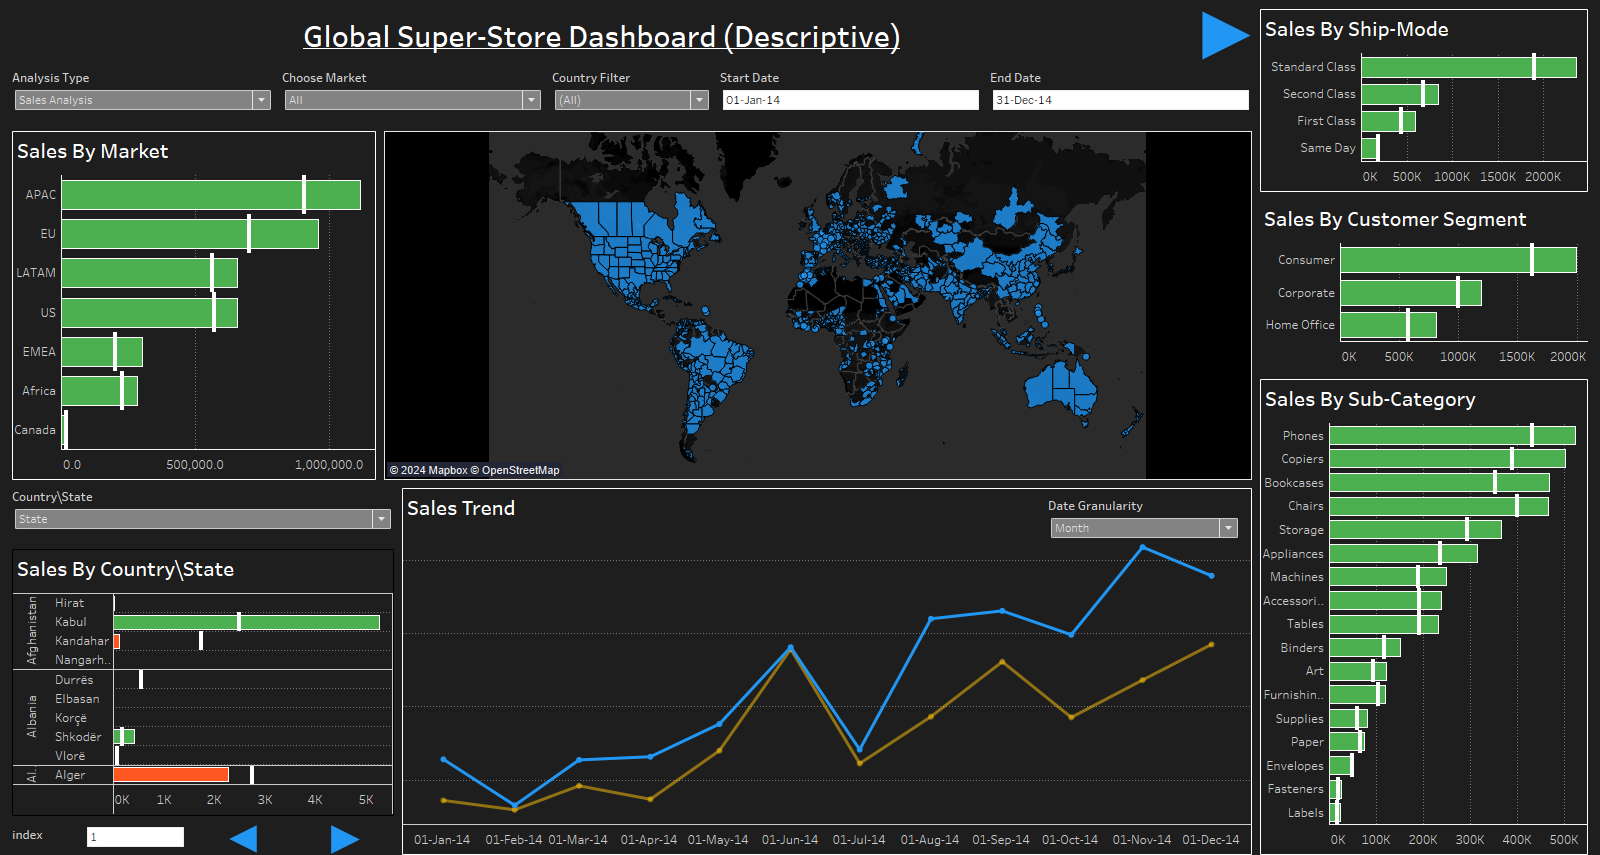

The page's visual inventory and layout, read from the dashboard file:
{"tool":"tableau","page":{"name":"Descriptive","canvas":[1000,1000],"units":"permille","ordinal":0},"visuals":[{"type":"text","box":[5.8,11.1,735.6,68.9]},{"type":"worksheet","title":"Prescriptive arrow","mark":"Shape","box":[741.4,11.1,43.2,68.9]},{"type":"worksheet","title":"Analysis By Ship-Mode","mark":"Automatic","rows":["Ship Mode"],"cols":["Calculation_714946453186723848"],"box":[784.6,11.1,209.7,219.2]},{"type":"parameter","param":"[Parameters].[Parameter 8]","box":[5.8,80,164.5,70.4]},{"type":"parameter","param":"[Parameters].[Parameter 1]","box":[170.2,80,164.5,70.4]},{"type":"filter","title":"Map","param":"[federated.01f76d61vm6dbi1f8phw8010wd9h].[none:Market Filter (copy)_861594915333","box":[334.7,80,121,70.4]},{"type":"parameter","param":"[Parameters].[Parameter 4]","box":[455.6,80,164.5,70.4]},{"type":"parameter","param":"[Parameters].[Start Date (copy)_861594915472015377]","box":[620.1,80,164.5,70.4]},{"type":"worksheet","title":"Analysis By Market","mark":"Automatic","rows":["Market"],"cols":["Calculation_714946453186723848"],"box":[5.8,150.3,232,408.9]},{"type":"worksheet","title":"Map","mark":"Multipolygon","box":[237.7,150.3,546.9,408.9]},{"type":"worksheet","title":"Analysis By Segment","mark":"Automatic","rows":["Segment"],"cols":["Calculation_714946453186723848"],"box":[784.6,230.2,209.7,204.5]},{"type":"worksheet","title":"Analysis By Sub-Category","mark":"Automatic","rows":["Sub-Category"],"cols":["Calculation_714946453186723848"],"box":[784.6,434.7,209.7,554.2]},{"type":"parameter","param":"[Parameters].[Parameter 6]","box":[5.8,559.2,243.2,70.4]},{"type":"worksheet","title":"Trends","mark":"Line","rows":["CP Trends (copy)_714946453187121161","Calculation_714946453186723848"],"cols":["Date Equalizer (copy)_861594915474567194"],"box":[249,559.2,535.6,429.8]},{"type":"parameter","param":"[Parameters].[Parameter 5]","box":[655.1,574.6,120.5,60.8]},{"type":"worksheet","title":"Analysis By Country\\State","mark":"Automatic","rows":["Choose Chart first (copy)_861594915371786256","Choose Chart (copy)_861594915481452575"],"cols":["Calculation_714946453186723848"],"box":[5.8,629.6,243.2,314.9]},{"type":"parameter","param":"[Parameters].[Parameter 2]","box":[5.8,944.5,131.8,44.4]},{"type":"worksheet","title":"index decrease","mark":"Shape","box":[137.5,944.5,55.8,44.4]},{"type":"worksheet","title":"index increase","mark":"Shape","box":[193.3,944.5,55.8,44.4]}]}

Visuals, with their boxes on the dashboard's canvas, which has no fixed pixel size, in thousandths of its width and height (x1, y1, x2, y2). These are canvas units, not pixel positions in the 1600x855 screenshot, which may show the page scaled, cropped or inside an application window:
text: {"left": 6, "top": 11, "right": 741, "bottom": 80}
"Prescriptive arrow" worksheet (Shape marks): {"left": 741, "top": 11, "right": 785, "bottom": 80}
"Analysis By Ship-Mode" worksheet: {"left": 785, "top": 11, "right": 994, "bottom": 230}
parameter: {"left": 6, "top": 80, "right": 170, "bottom": 150}
parameter: {"left": 170, "top": 80, "right": 335, "bottom": 150}
"Map" filter: {"left": 335, "top": 80, "right": 456, "bottom": 150}
parameter: {"left": 456, "top": 80, "right": 620, "bottom": 150}
parameter: {"left": 620, "top": 80, "right": 785, "bottom": 150}
"Analysis By Market" worksheet: {"left": 6, "top": 150, "right": 238, "bottom": 559}
"Map" worksheet (Multipolygon marks): {"left": 238, "top": 150, "right": 785, "bottom": 559}
"Analysis By Segment" worksheet: {"left": 785, "top": 230, "right": 994, "bottom": 435}
"Analysis By Sub-Category" worksheet: {"left": 785, "top": 435, "right": 994, "bottom": 989}
parameter: {"left": 6, "top": 559, "right": 249, "bottom": 630}
"Trends" worksheet (Line marks): {"left": 249, "top": 559, "right": 785, "bottom": 989}
parameter: {"left": 655, "top": 575, "right": 776, "bottom": 635}
"Analysis By Country\State" worksheet: {"left": 6, "top": 630, "right": 249, "bottom": 944}
parameter: {"left": 6, "top": 944, "right": 138, "bottom": 989}
"index decrease" worksheet (Shape marks): {"left": 138, "top": 944, "right": 193, "bottom": 989}
"index increase" worksheet (Shape marks): {"left": 193, "top": 944, "right": 249, "bottom": 989}
